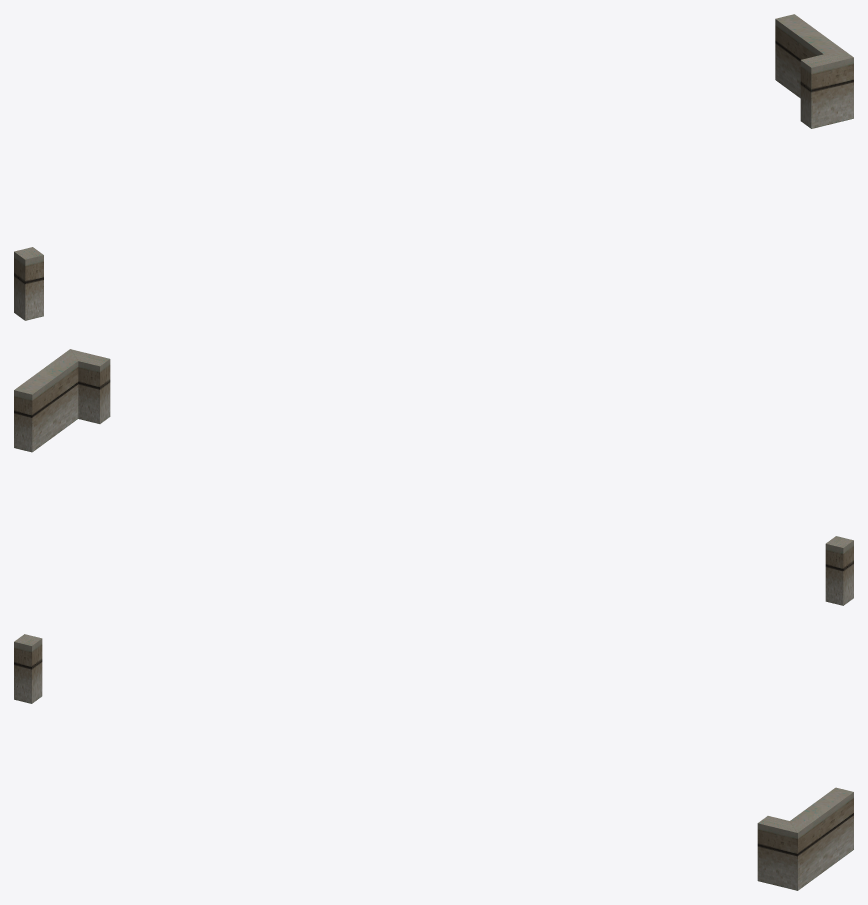
File: vgwstnewall6901.obj
The picture shows the model from 3 angles, top to bottom: view 1: azimuth 30°, elevation 25°; view 2: azimuth 150°, elevation 25°; view 3: azimuth 330°, elevation 25°; orthographic projection. The views are drawn at different scales.
Visible parts, largest first — view 1: vgwstnewall6901; view 2: vgwstnewall6901; view 3: vgwstnewall6901.
Boxes of the visible parts, left/top/right/bottom form: vgwstnewall6901: left=14, top=14, right=853, bottom=320; vgwstnewall6901: left=14, top=349, right=853, bottom=605; vgwstnewall6901: left=14, top=634, right=853, bottom=890.
Size of the model in its own units: 39.79 by 2.8 by 4.94.
1 material, 1 textured.
